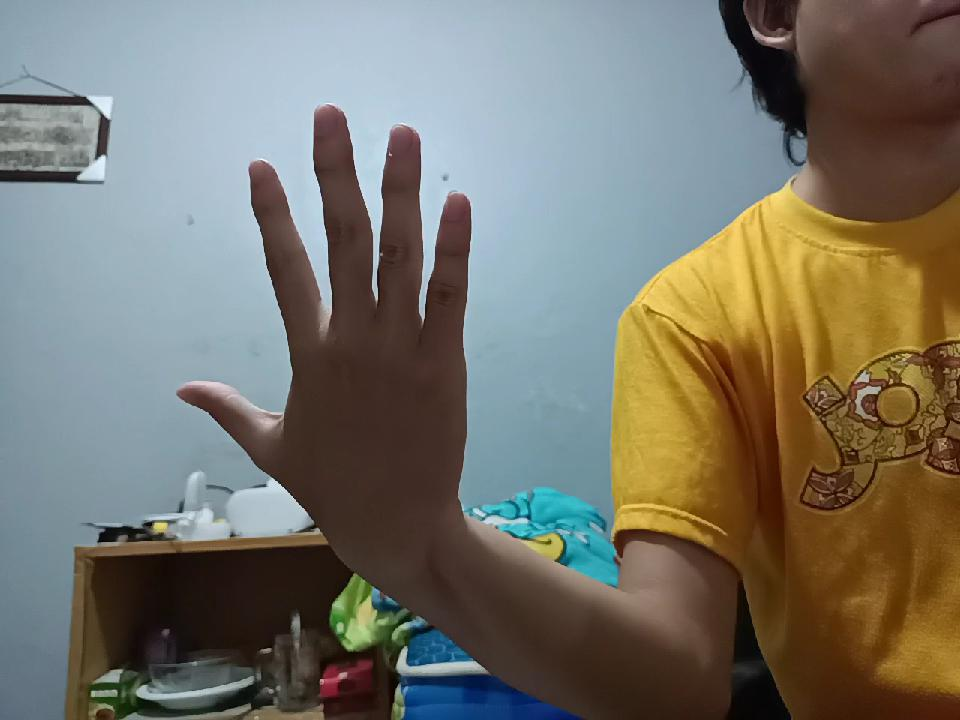paper: (184, 109, 482, 571)
